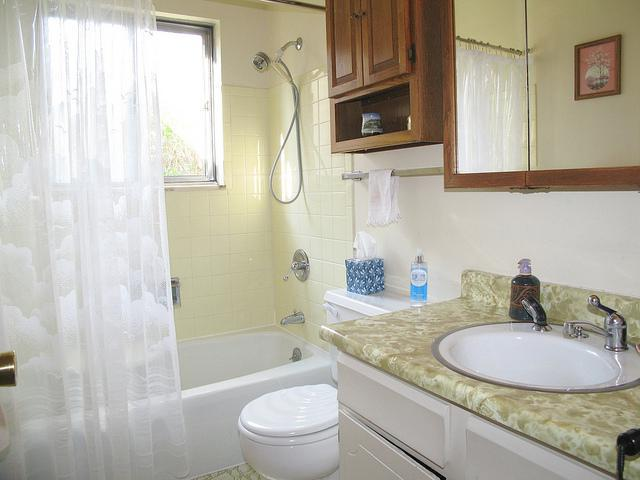Lavamanos: (436, 299, 639, 402)
Sanitario: (236, 288, 435, 479)
